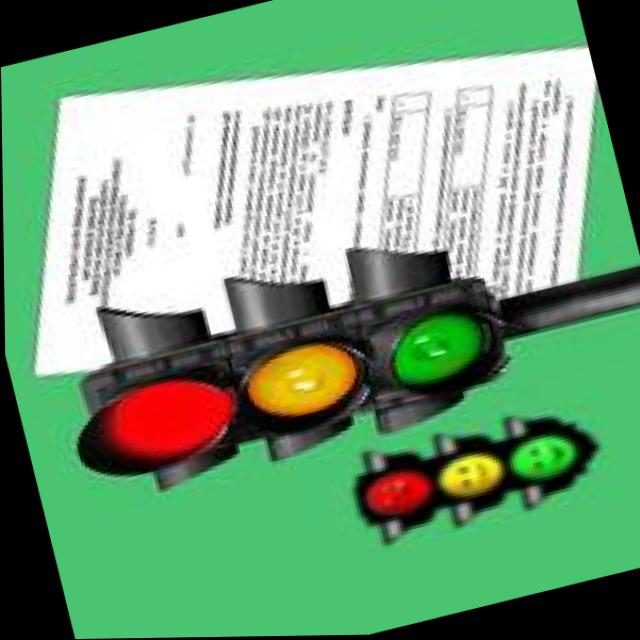green_light: (341, 258, 541, 470)
red_light: (28, 290, 252, 507)
yellow_light: (218, 301, 370, 460)
